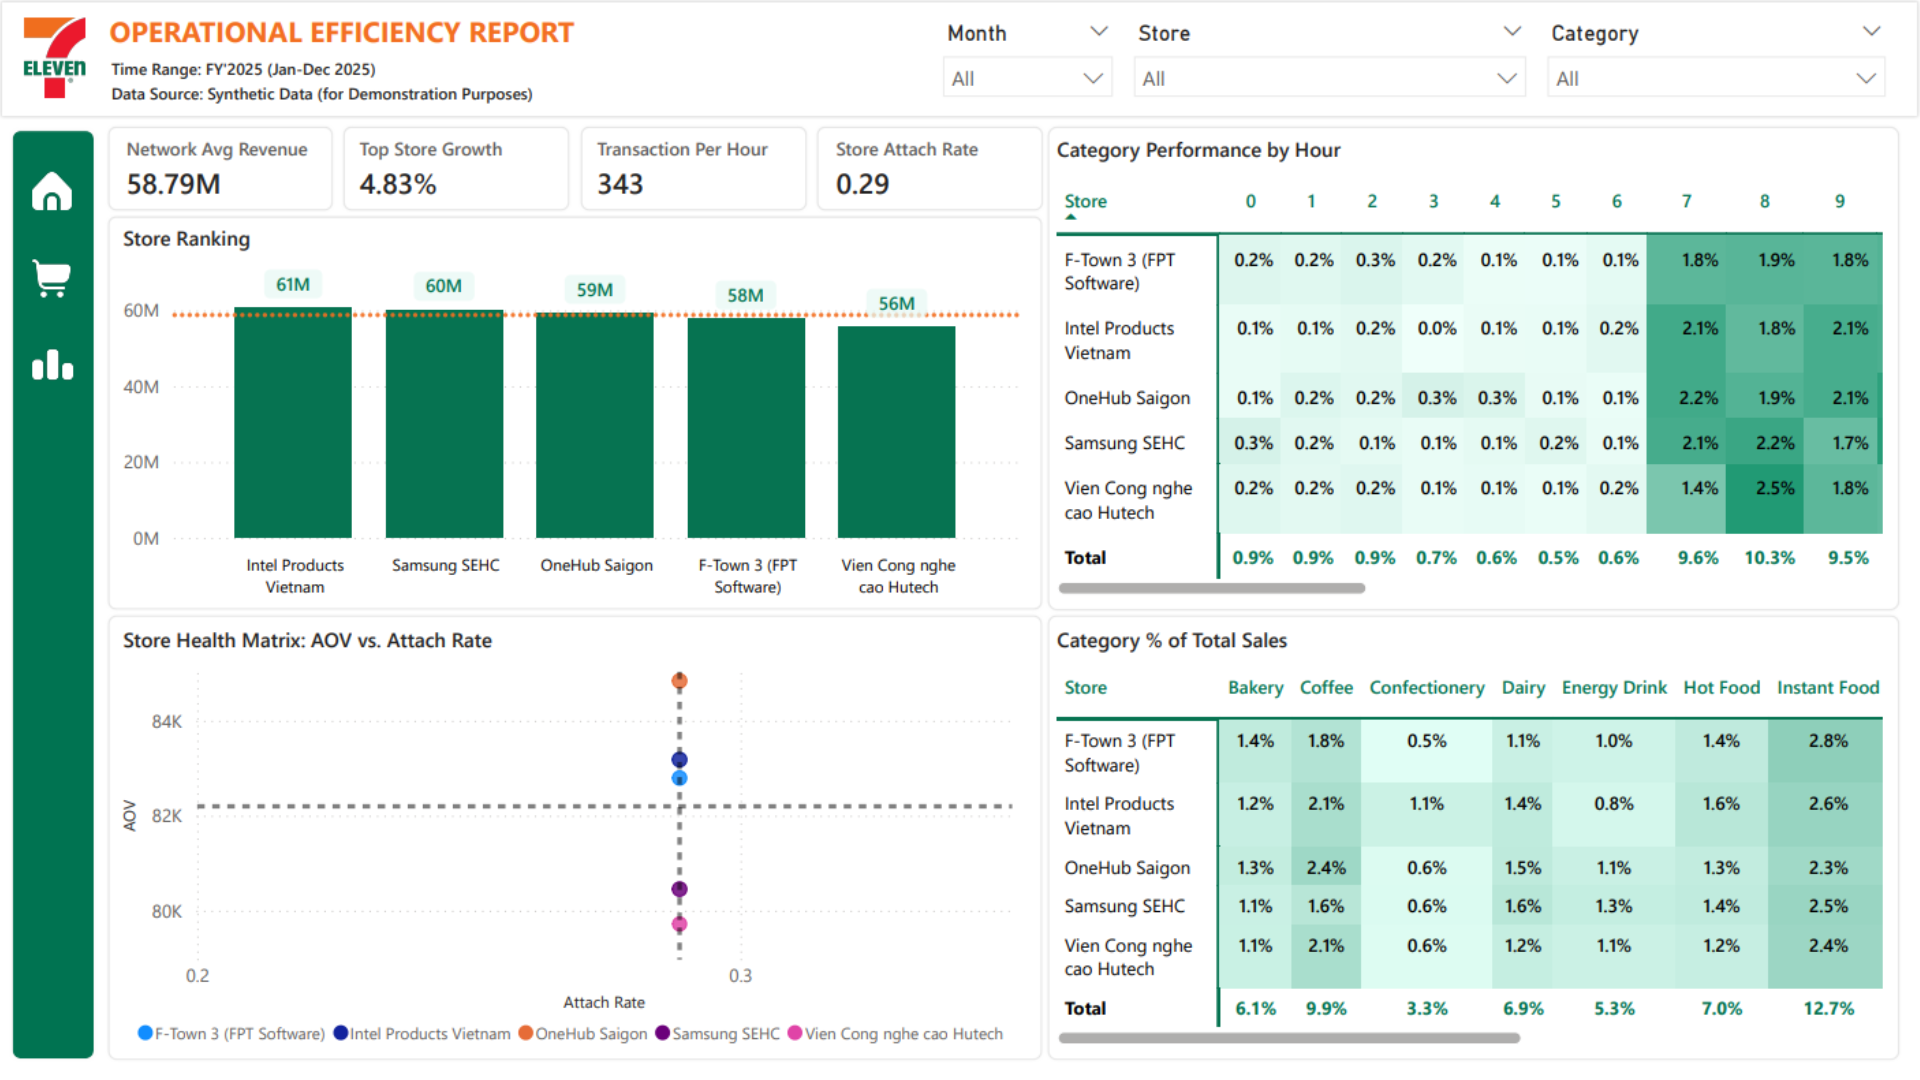

Layout of this report page (visuals, bound fields, positions):
{"tool":"powerbi","page":{"name":"Store Performance & Benchmark","canvas":[1280,720],"ordinal":2},"visuals":[{"type":"shape","box":[0,0,1280.4,80.7],"z":0},{"type":"shape","box":[71.7,144.3,624.2,263.6],"z":1000},{"type":"shape","box":[71.7,409.1,624.2,299],"z":3000},{"type":"shape","box":[697,83.8,569.7,325],"z":4000},{"type":"slicer","fields":{"Values":["7_eleven fact_transaction.MonthShort"]},"box":[623.9,16,122.7,53.4],"z":5000},{"type":"slicer","fields":{"Values":["7_eleven dim_store.store_name"]},"box":[751.1,16,270.5,53.4],"z":6000},{"type":"slicer","fields":{"Values":["7_eleven dim_product.category"]},"box":[1026.1,16,235.2,53.4],"z":7000},{"type":"lineClusteredColumnComboChart","title":"Store Ranking","fields":{"Category":["7_eleven dim_store.store_name"],"Y":["7_eleven fact_transaction.Total Revenue"]},"box":[78.8,150.5,606.1,257.6],"z":8000},{"type":"scatterChart","title":"Store Health Matrix: AOV vs. Attach Rate","fields":{"Series":["7_eleven dim_store.store_name"],"Size":["7_eleven fact_transaction.Total Revenue"],"X":["Order Summary.Attach Rate"],"Y":["7_eleven fact_transaction.AOV"]},"box":[78.8,418.2,604,282.8],"z":9000},{"type":"pivotTable","title":"Category Performance by Hour","fields":{"Columns":["7_eleven fact_transaction.hour_only"],"Rows":["7_eleven dim_store.store_name"],"Values":["7_eleven fact_transaction.Sales Share %"]},"box":[705.1,91.9,548.5,305.1],"z":10000},{"type":"shape","box":[697,409.1,569.7,299],"z":11000},{"type":"pivotTable","title":"Category % of Total Sales","fields":{"Columns":["7_eleven dim_product.category"],"Rows":["7_eleven dim_store.store_name"],"Values":["7_eleven fact_transaction.Category % of Total Sales"]},"box":[705.1,418.2,548.5,277.8],"z":12000},{"type":"shape","box":[71.7,83.9,153,59.2],"z":13000},{"type":"shape","box":[229.5,83.9,153,59.2],"z":14000},{"type":"shape","box":[387,83.9,153,59.2],"z":15000},{"type":"shape","box":[544.4,83.8,152.5,59.6],"z":16000},{"type":"image","box":[11.1,14.1,53.5,51.5],"z":17000},{"type":"textbox","box":[74.7,10.1,353.5,31.3],"z":18000},{"type":"cardVisual","fields":{"Data":["7_eleven fact_transaction.Network Avg Revenue"]},"box":[62,76.4,185.4,73.6],"z":19000},{"type":"cardVisual","fields":{"Data":["7_eleven fact_transaction.Top Store Growth"]},"box":[217.2,76.8,146.5,72.7],"z":20000},{"type":"cardVisual","fields":{"Data":["7_eleven fact_transaction.Transaction Per Hour"]},"box":[375.5,77.3,169.1,71.8],"z":21000},{"type":"cardVisual","fields":{"Data":["7_eleven fact_transaction.Store Attach Rate"]},"box":[534.2,76.6,147.1,72.6],"z":22000},{"type":"shape","box":[8.1,85.6,58.9,622.2],"z":22001},{"type":"image","box":[17.6,116.2,37.4,25.3],"z":22002},{"type":"image","box":[17.8,173.7,37,25.3],"z":22003},{"type":"image","box":[17.6,231.3,37.4,25.3],"z":22004},{"type":"textbox","box":[71,32,300,60],"z":22005}]}

Visuals, with their boxes in screenshot pixels (x1, y1, x2, y2), scaled from the page's 1280x720 canvas onto the 1920x1080 screenshot:
shape: (0,0,1919,121)
shape: (108,216,1044,612)
shape: (108,614,1044,1062)
shape: (1046,126,1900,613)
slicer - 7_eleven fact_transaction.MonthShort: (936,24,1120,104)
slicer - 7_eleven dim_store.store_name: (1127,24,1532,104)
slicer - 7_eleven dim_product.category: (1539,24,1892,104)
"Store Ranking" lineClusteredColumnComboChart: (118,226,1027,612)
"Store Health Matrix: AOV vs. Attach Rate" scatterChart: (118,627,1024,1052)
"Category Performance by Hour" pivotTable: (1058,138,1880,596)
shape: (1046,614,1900,1062)
"Category % of Total Sales" pivotTable: (1058,627,1880,1044)
shape: (108,126,337,215)
shape: (344,126,574,215)
shape: (580,126,810,215)
shape: (817,126,1045,215)
image: (17,21,97,98)
textbox: (112,15,642,62)
cardVisual - 7_eleven fact_transaction.Network Avg Revenue: (93,115,371,225)
cardVisual - 7_eleven fact_transaction.Top Store Growth: (326,115,546,224)
cardVisual - 7_eleven fact_transaction.Transaction Per Hour: (563,116,817,224)
cardVisual - 7_eleven fact_transaction.Store Attach Rate: (801,115,1022,224)
shape: (12,128,100,1062)
image: (26,174,82,212)
image: (27,261,82,298)
image: (26,347,82,385)
textbox: (106,48,556,138)
